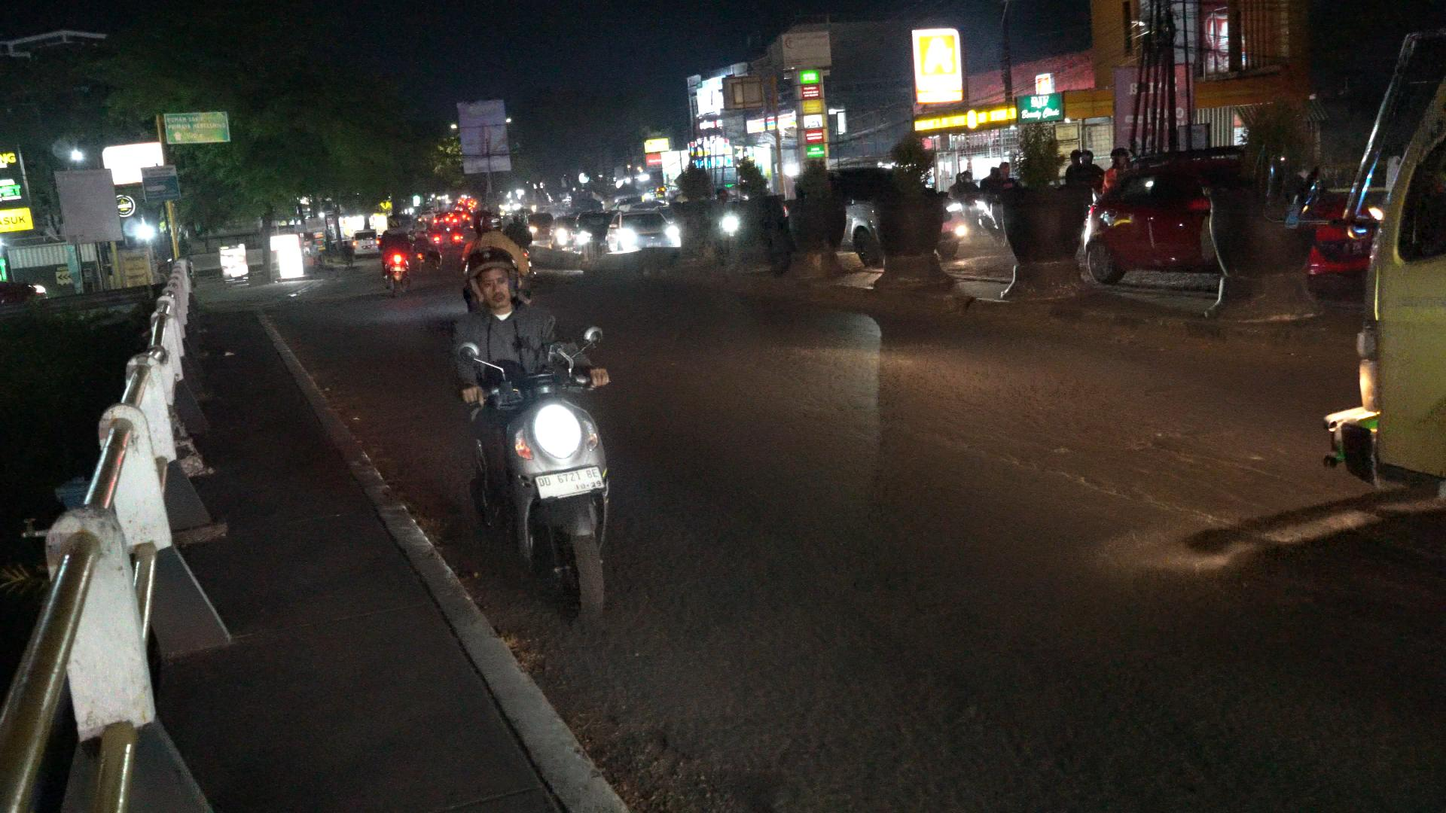number-plate: (533, 465, 606, 500)
